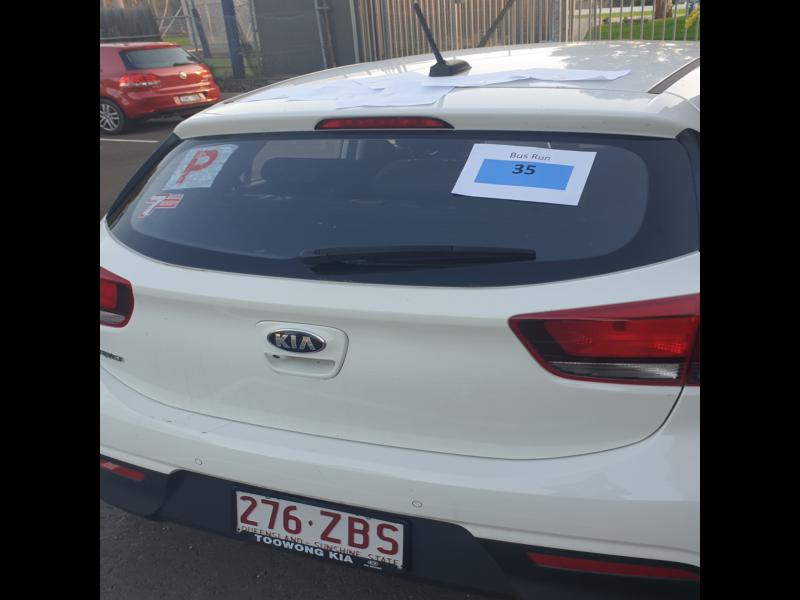BusRun: (476, 158, 574, 193)
PlateNo: (233, 488, 406, 575)
